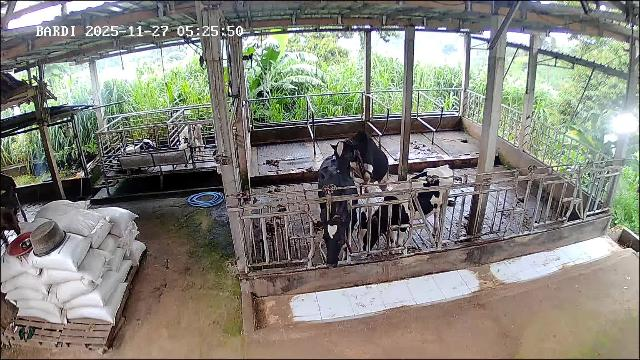mounting: (331, 131, 391, 206)
